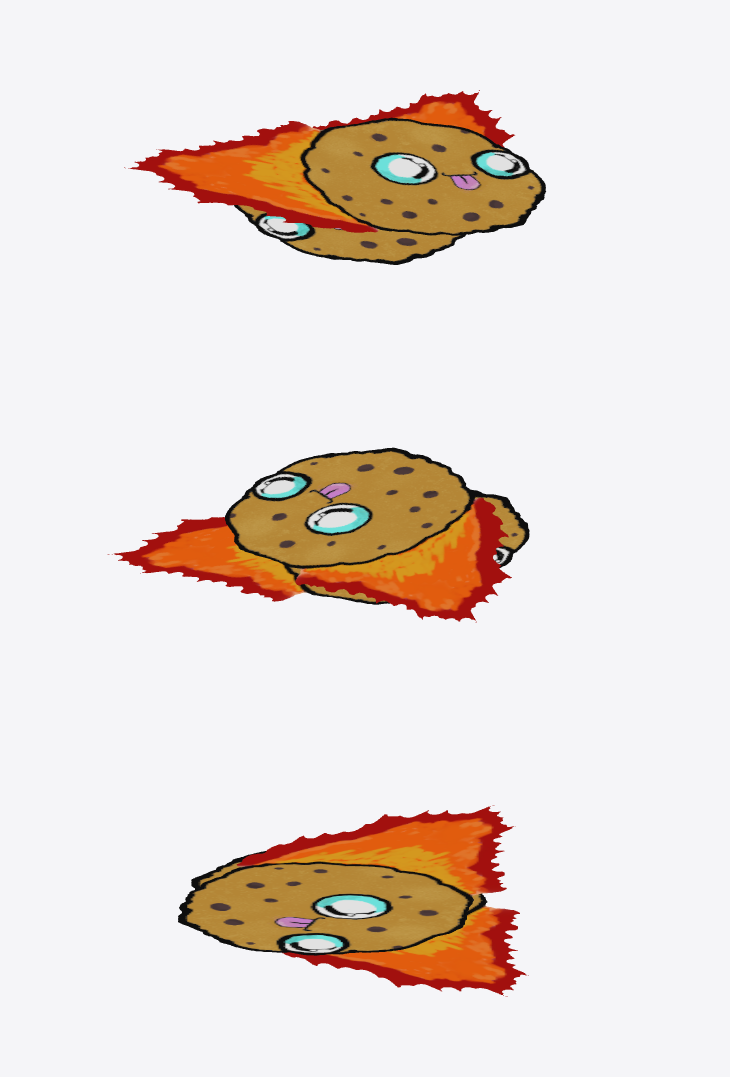
The model's file is cookieImpactor.obj.
3 renders of one model, top to bottom at view 1: azimuth 30°, elevation 25°; view 2: azimuth 150°, elevation 25°; view 3: azimuth 270°, elevation 25°, orthographic.
Parts seen in each view (by area): view 1: Cylinder; view 2: Cylinder; view 3: Cylinder.
Part boxes in pixels (x1,y1,x2,y2): Cylinder: (124, 90, 545, 264); Cylinder: (107, 447, 529, 622); Cylinder: (178, 805, 528, 996).
Bounding box in the file's own units: 8.1 × 0.4326 × 8.15.
